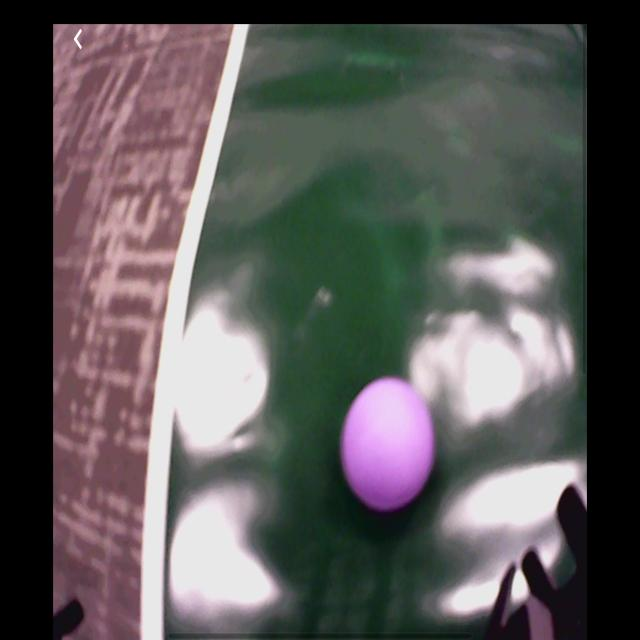ball: (341, 376, 434, 513)
